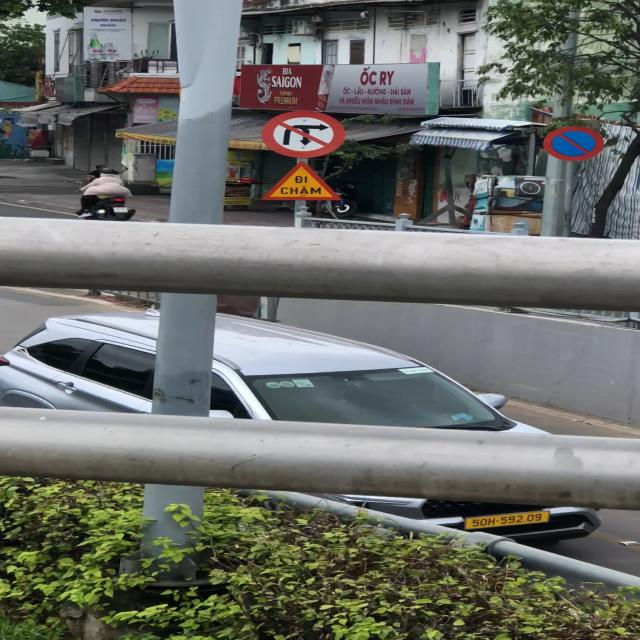Bien bao cam re phai va quay dau: (260, 107, 350, 161)
